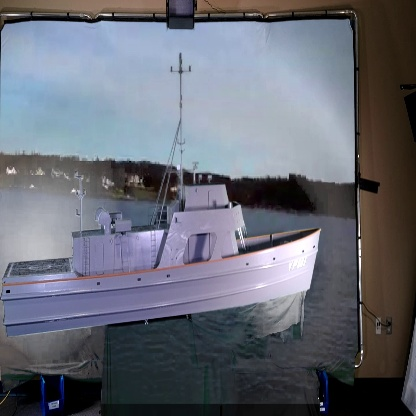YP689: (0, 53, 321, 345)
